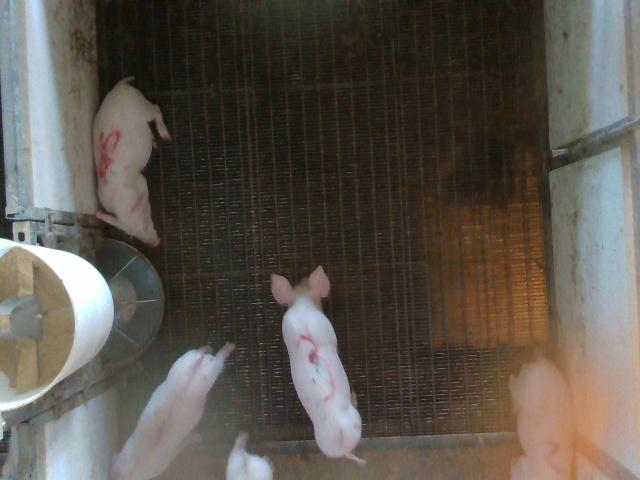pig-1: (110, 344, 234, 479)
pig-2: (510, 358, 570, 478)
pig-3: (272, 266, 364, 463)
pig-5: (94, 76, 171, 246)
